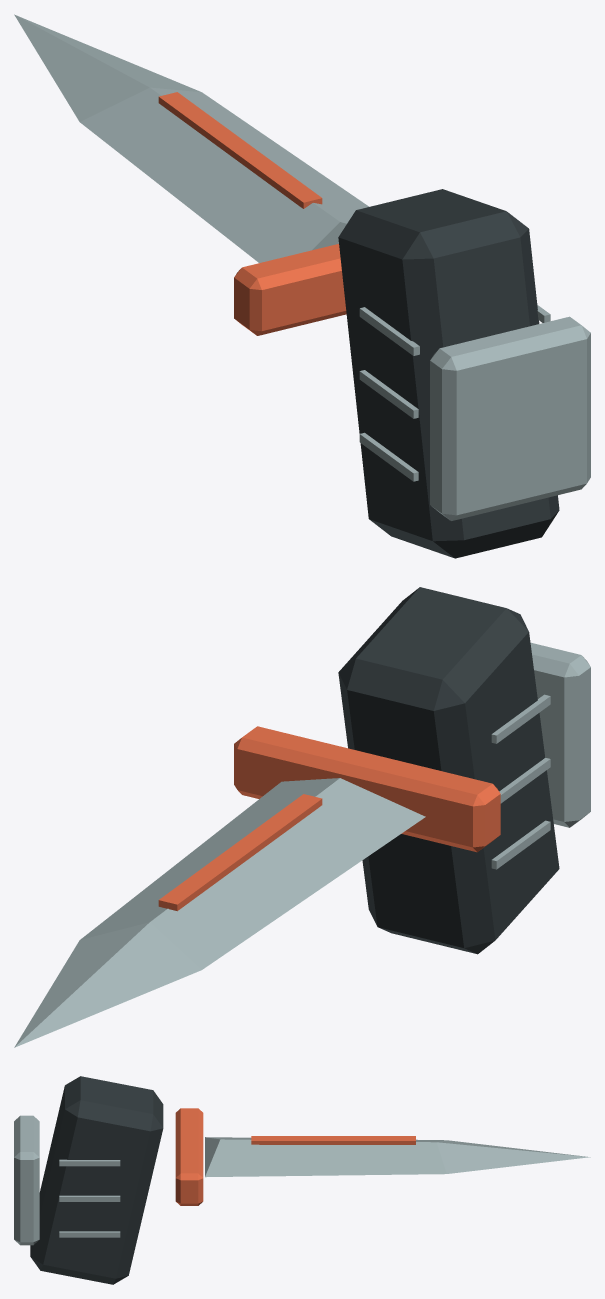
File: knife.glb
3 views of the same model, one above another, from view 1: azimuth 30°, elevation 25°; view 2: azimuth 150°, elevation 25°; view 3: azimuth 270°, elevation 25° (orthographic). The views are drawn at different scales.
Parts seen in each view (by area): view 1: knife_grip, knife_pommel, knife_blade, knife_guard, knife_blade_spine_inlay, knife_grip_inlay_L.002, knife_grip_inlay_L.001, knife_grip_inlay_L; view 2: knife_grip, knife_blade, knife_guard, knife_pommel, knife_blade_spine_inlay, knife_grip_inlay_L.002, knife_grip_inlay_L, knife_grip_inlay_L.001; view 3: knife_grip, knife_blade, knife_pommel, knife_guard, knife_blade_spine_inlay, knife_grip_inlay.002, knife_grip_inlay, knife_grip_inlay.001.
Boxes of the visible parts, bbox=[...] form: knife_grip: bbox=[338, 189, 559, 558]; knife_pommel: bbox=[430, 316, 590, 520]; knife_blade: bbox=[14, 14, 368, 262]; knife_guard: bbox=[234, 244, 346, 335]; knife_blade_spine_inlay: bbox=[158, 92, 322, 208]; knife_grip_inlay_L.002: bbox=[359, 307, 419, 355]; knife_grip_inlay_L.001: bbox=[359, 370, 418, 418]; knife_grip_inlay_L: bbox=[359, 432, 418, 481]; knife_grip: bbox=[338, 587, 559, 954]; knife_blade: bbox=[14, 778, 425, 1047]; knife_guard: bbox=[234, 726, 500, 852]; knife_pommel: bbox=[530, 642, 590, 827]; knife_blade_spine_inlay: bbox=[158, 794, 322, 911]; knife_grip_inlay_L.002: bbox=[491, 694, 550, 743]; knife_grip_inlay_L: bbox=[491, 820, 550, 869]; knife_grip_inlay_L.001: bbox=[499, 757, 550, 803]; knife_grip: bbox=[30, 1076, 163, 1284]; knife_blade: bbox=[205, 1137, 590, 1177]; knife_pommel: bbox=[14, 1115, 39, 1245]; knife_guard: bbox=[175, 1108, 203, 1205]; knife_blade_spine_inlay: bbox=[251, 1136, 415, 1144]; knife_grip_inlay.002: bbox=[59, 1159, 120, 1166]; knife_grip_inlay: bbox=[59, 1231, 120, 1237]; knife_grip_inlay.001: bbox=[59, 1195, 120, 1201].
Size of the model in its own units: 0.16 by 0.1979 by 0.5605.
